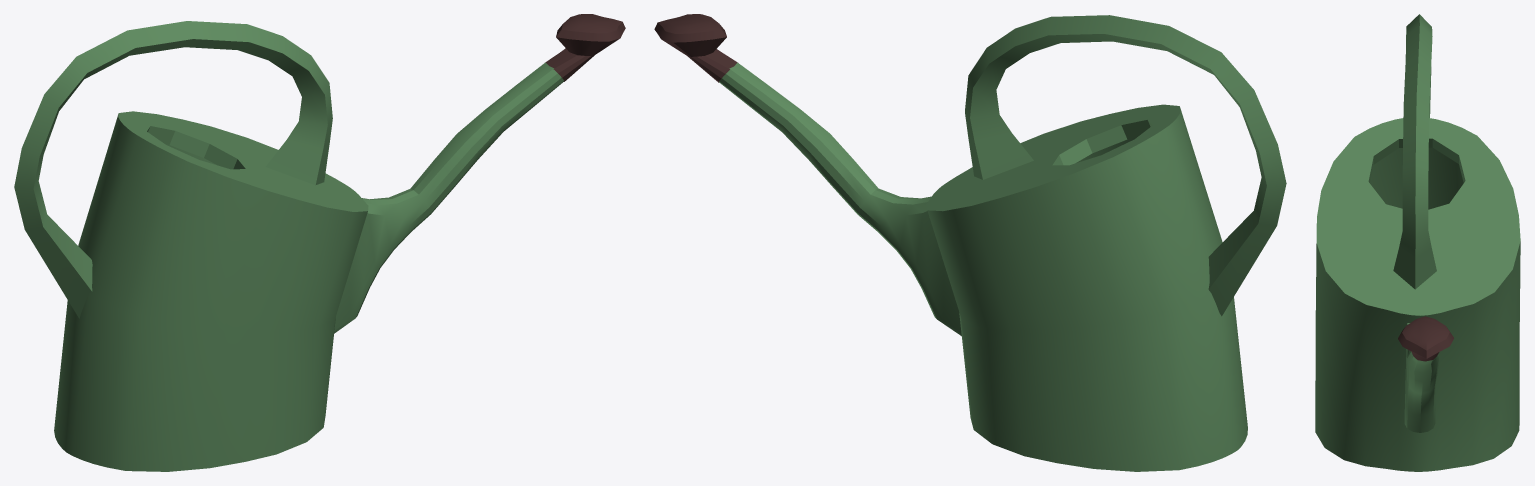
File: Water_Can.fbx
The picture shows the model from 3 angles, left to right: view 1: azimuth 30°, elevation 25°; view 2: azimuth 150°, elevation 25°; view 3: azimuth 270°, elevation 25°; orthographic projection. The views are drawn at different scales.
Visible parts, largest first — view 1: Cylinder, BezierCurve, BezierCurve.001, BezierCurve.002; view 2: Cylinder, BezierCurve, BezierCurve.001, BezierCurve.002; view 3: Cylinder, BezierCurve, BezierCurve.001, BezierCurve.002.
Boxes of the visible parts, bbox=[...] form: Cylinder: bbox=[54, 111, 368, 471]; BezierCurve: bbox=[14, 21, 332, 318]; BezierCurve.001: bbox=[334, 62, 564, 333]; BezierCurve.002: bbox=[545, 14, 625, 81]; Cylinder: bbox=[925, 104, 1247, 471]; BezierCurve: bbox=[965, 15, 1286, 316]; BezierCurve.001: bbox=[719, 62, 961, 335]; BezierCurve.002: bbox=[654, 14, 737, 82]; Cylinder: bbox=[1315, 118, 1520, 471]; BezierCurve: bbox=[1393, 14, 1436, 289]; BezierCurve.001: bbox=[1404, 323, 1438, 432]; BezierCurve.002: bbox=[1398, 316, 1453, 361].
Size of the model in its own units: 89.96 by 56.38 by 28.56.
